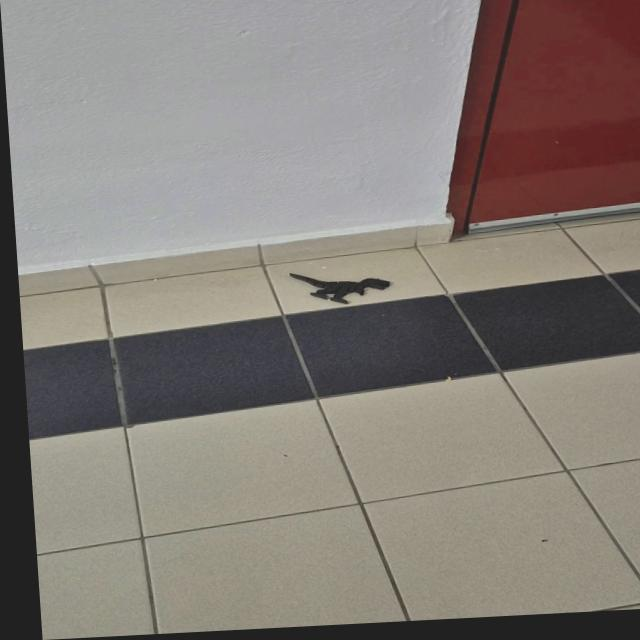dino: (289, 267, 391, 308)
